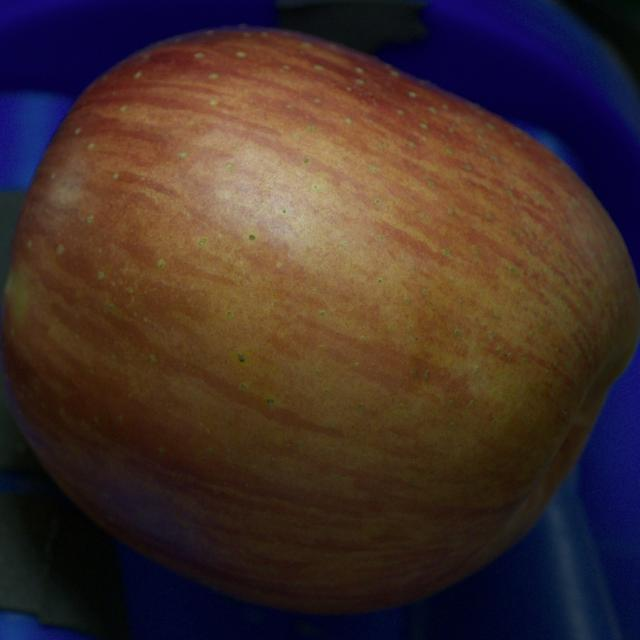apple: (0, 28, 639, 612)
bruise: (352, 55, 476, 124)
